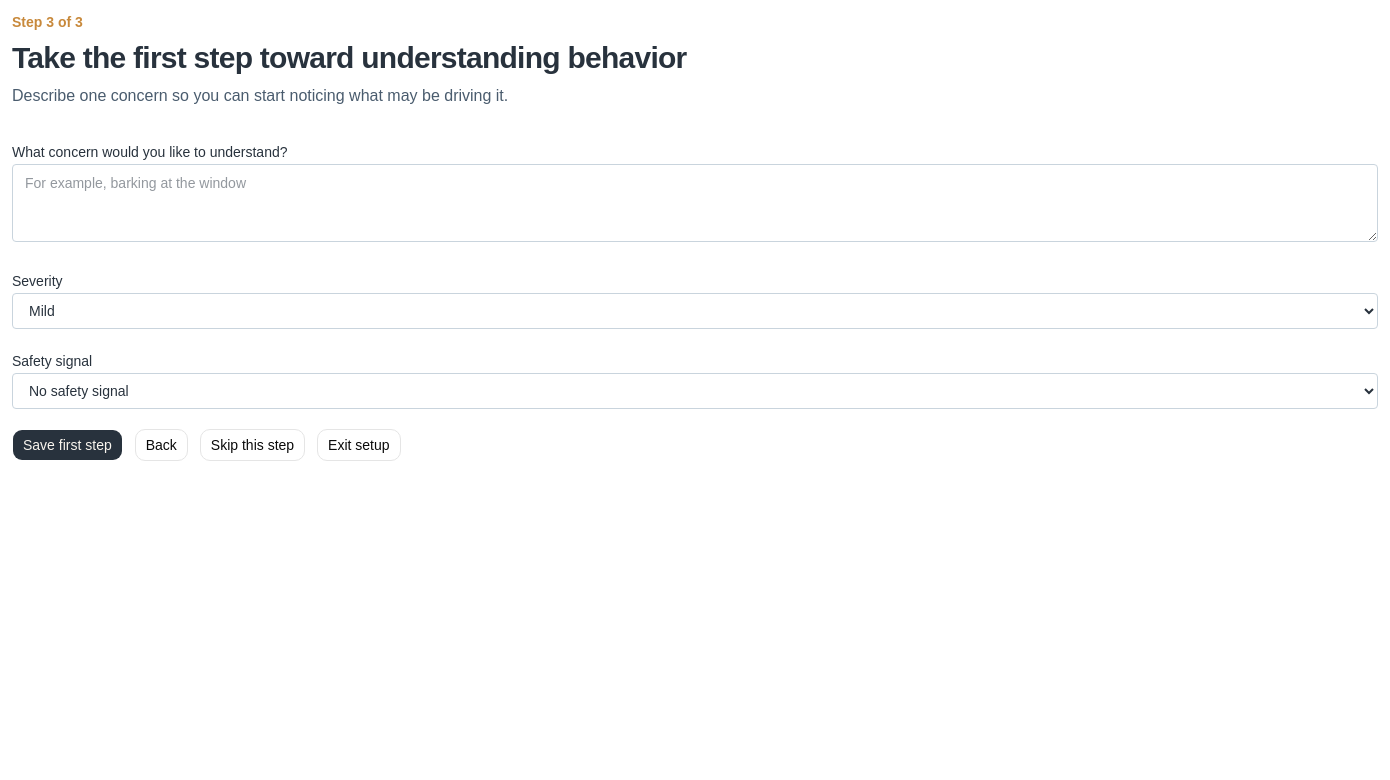
Test: GuidedSetup › reconciles a behavior conflict to the server-selected action
The image size is (1390, 780).
Step 1. Type "Barking" into the text box labelled "What concern would you like to understand?" → (695, 203), box [12,164,1378,242]
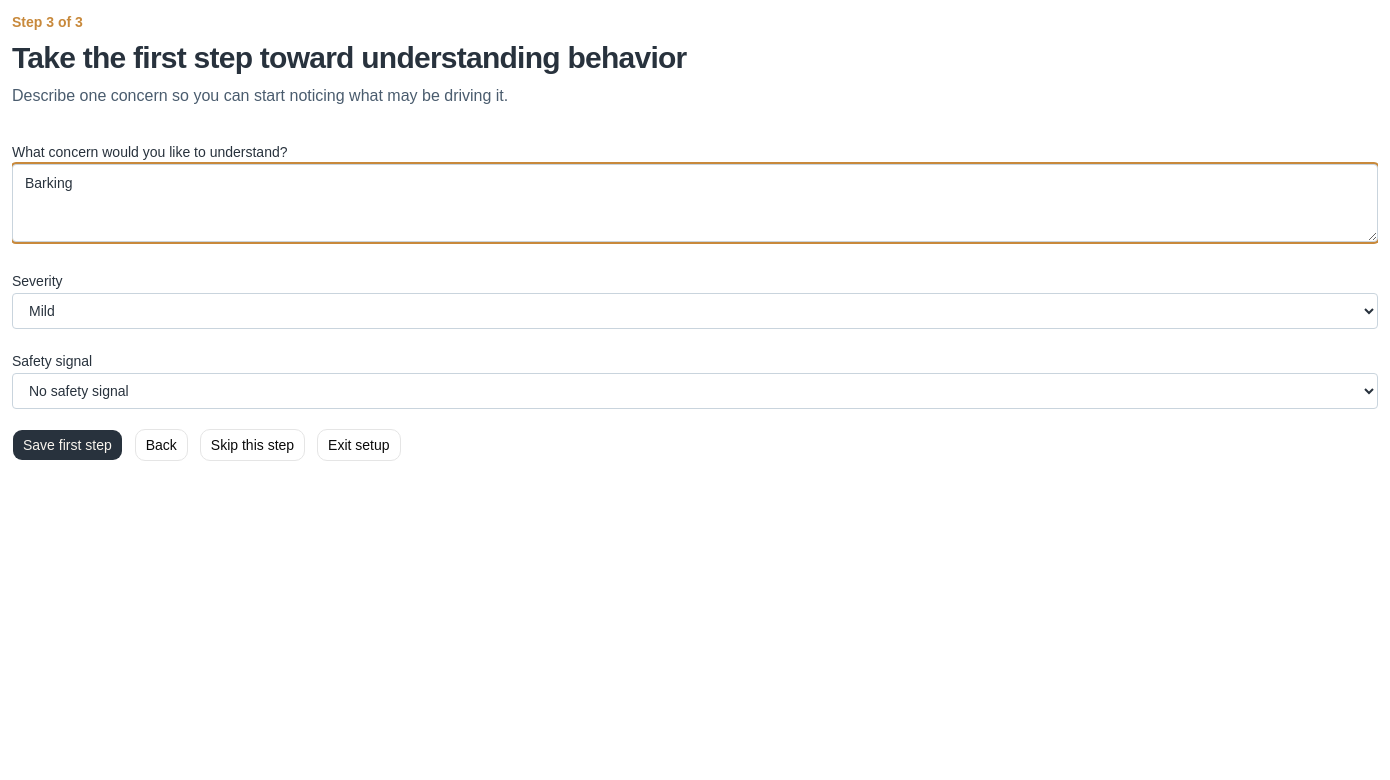
Step 2. Click the button "Save first step" → (67, 445), box [12,429,123,461]
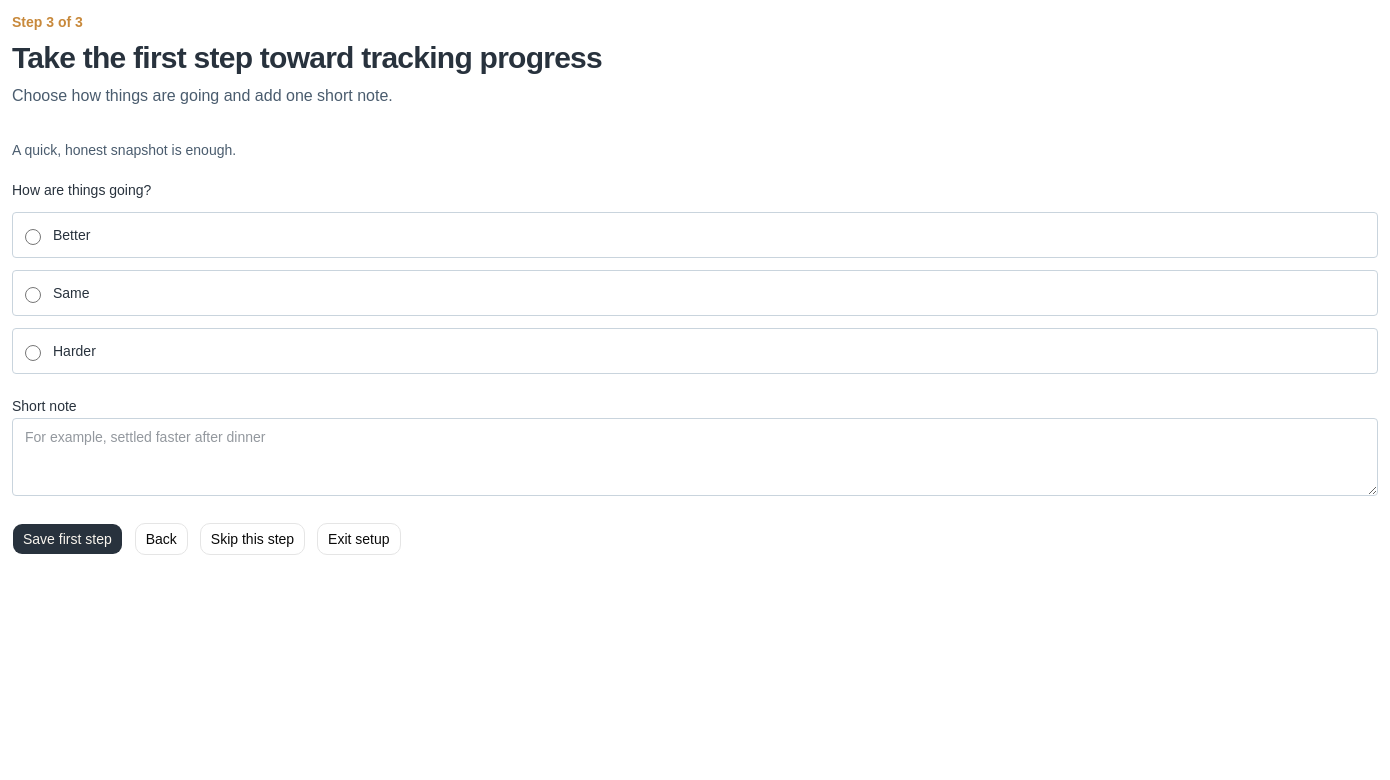
Expected: the radio button labelled "Better" is shown, [25,229,41,245]
